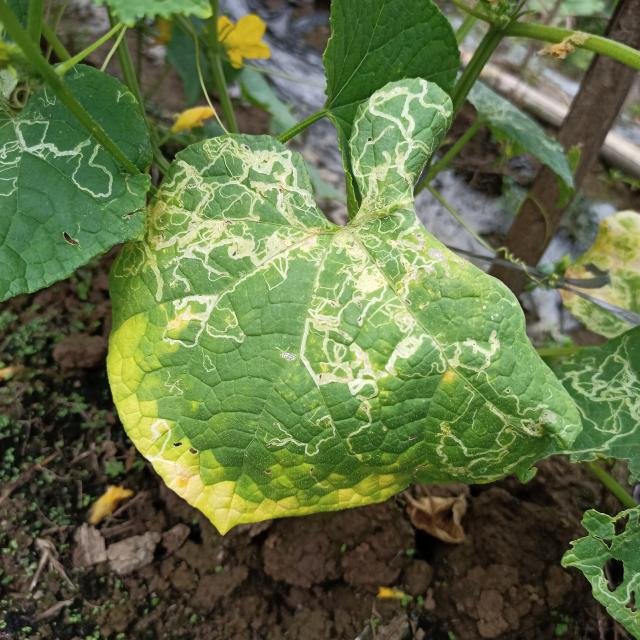disease_cucumber: (96, 303, 292, 535), (247, 448, 402, 526)
